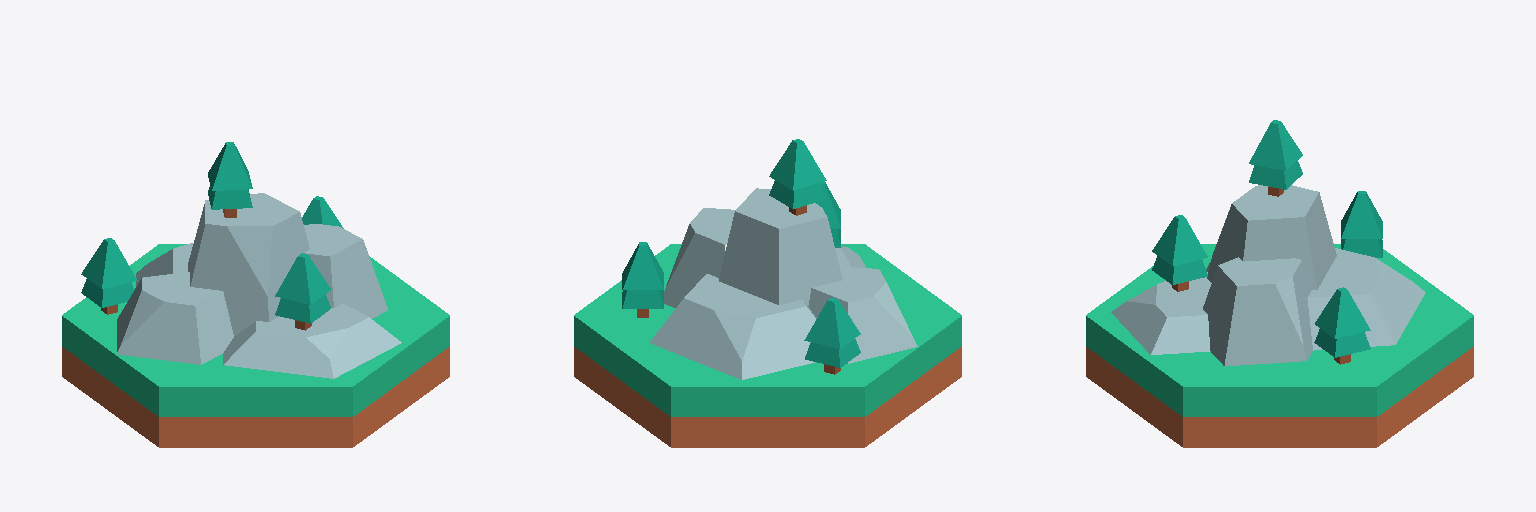
Rendered from grass_hill.obj.
3 renders of one model, left to right at view 1: azimuth 30°, elevation 25°; view 2: azimuth 150°, elevation 25°; view 3: azimuth 270°, elevation 25°, orthographic.
Visible parts, largest first — view 1: grass_hill, rockLarge, tree; view 2: grass_hill, rockLarge, tree; view 3: grass_hill, rockLarge, tree.
Part boxes in pixels (x1,y1,x2,y2): grass_hill: (62,244,449,447); rockLarge: (117,193,401,378); tree: (81,142,343,330); grass_hill: (574,244,961,447); rockLarge: (649,188,917,379); tree: (622,139,860,374); grass_hill: (1086,244,1473,447); rockLarge: (1111,185,1425,366); tree: (1152,120,1382,364).
Size of the model in its own units: 1 by 0.7894 by 1.15.